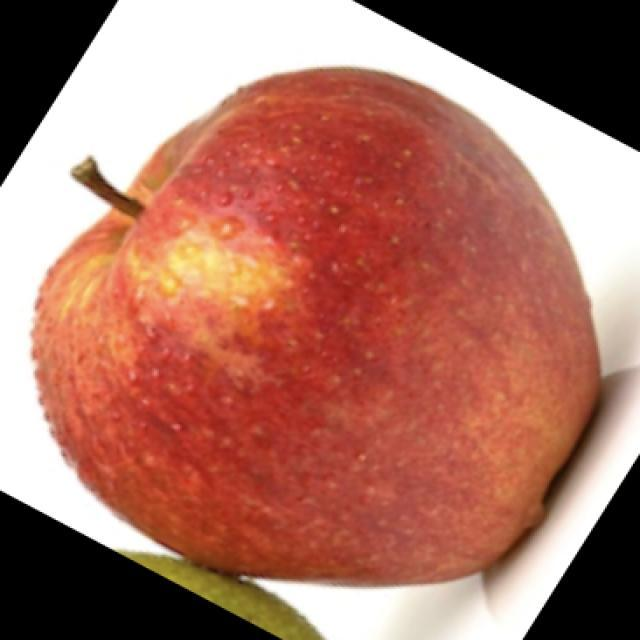Fresh Apple: (78, 82, 612, 575)
